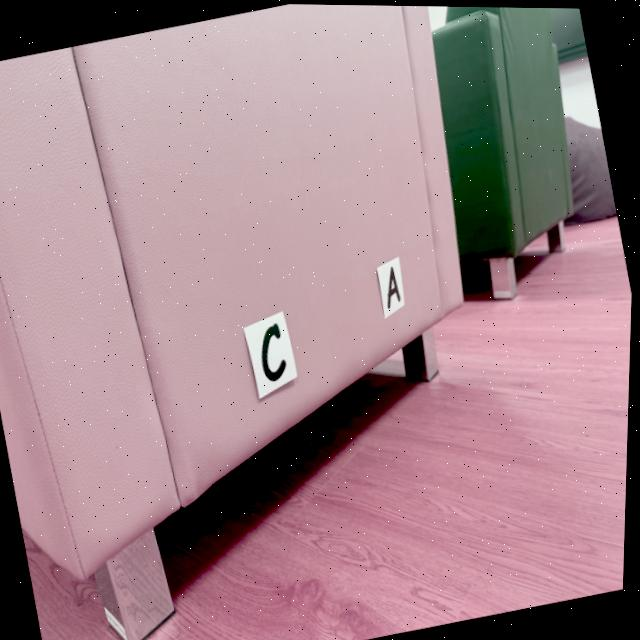A: (389, 265, 402, 306)
C: (263, 322, 288, 381)
